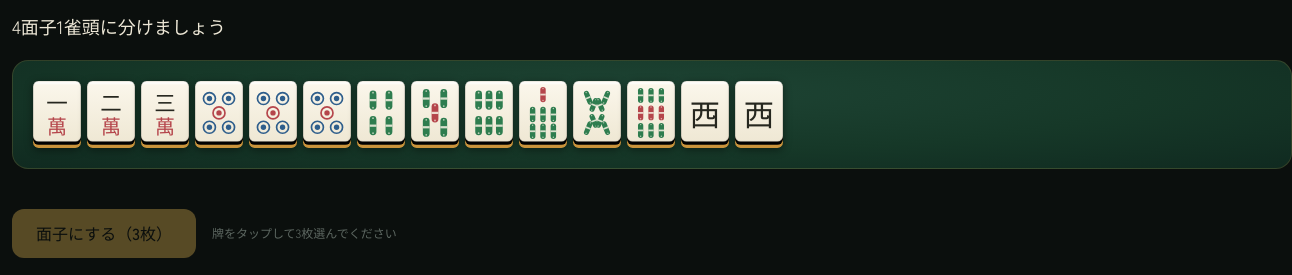
it: GroupBuildStepView › 3枚選ぶまで確定ボタンは無効
Expected: the button "面子にする（3枚）" is disabled, left=12, top=209, right=196, bottom=258
Click the button named "一萬".
click(57, 114)  # box left=33, top=81, right=81, bottom=148
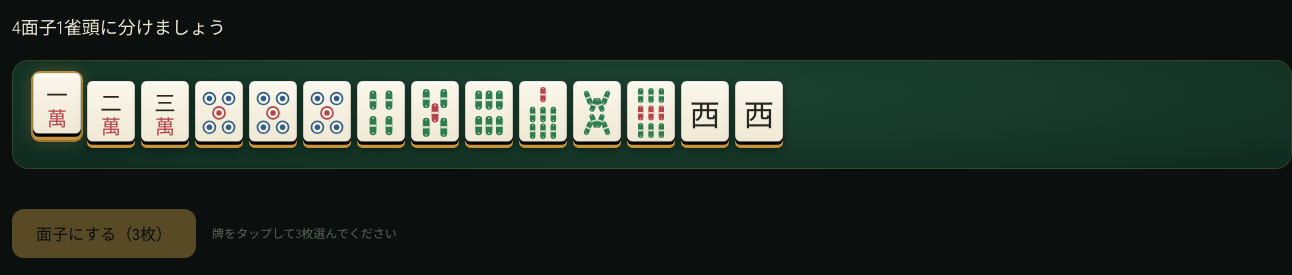
Expected: the button "面子にする（3枚）" is disabled, left=12, top=209, right=196, bottom=258
Click the button named "二萬".
click(111, 114)  # box left=87, top=81, right=135, bottom=148
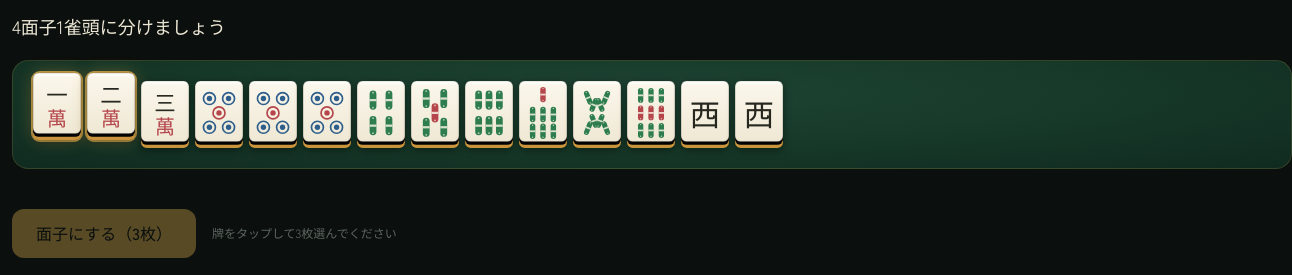
Click the button named "三萬".
click(165, 114)  # box left=141, top=81, right=189, bottom=148
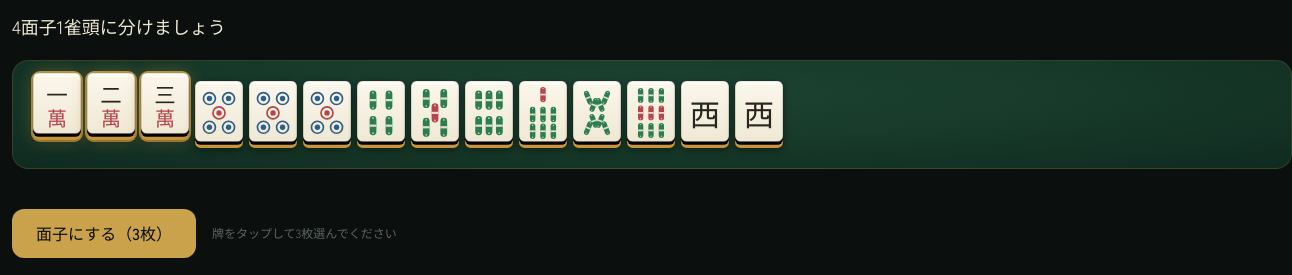
Expected: the button "面子にする（3枚）" is enabled, left=12, top=209, right=196, bottom=258
